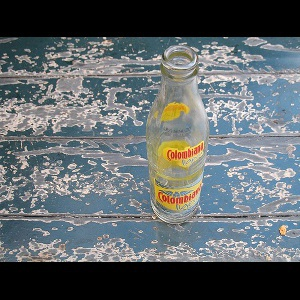emptybottle: (147, 46, 209, 225)
